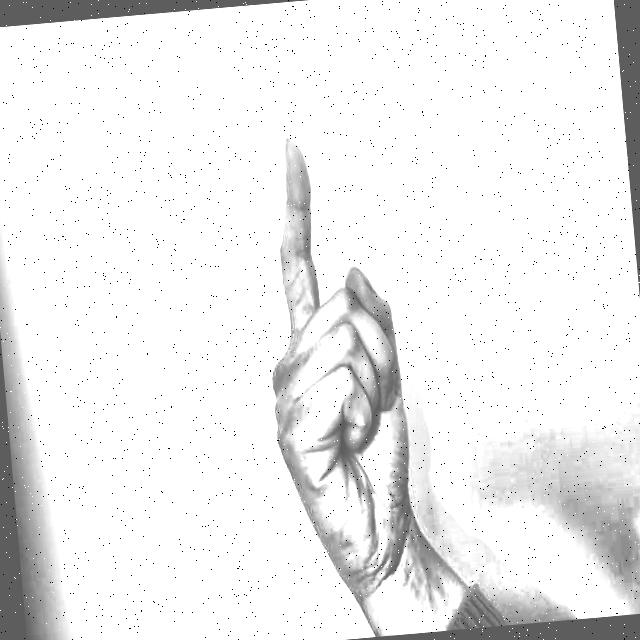U: (222, 111, 444, 598)
